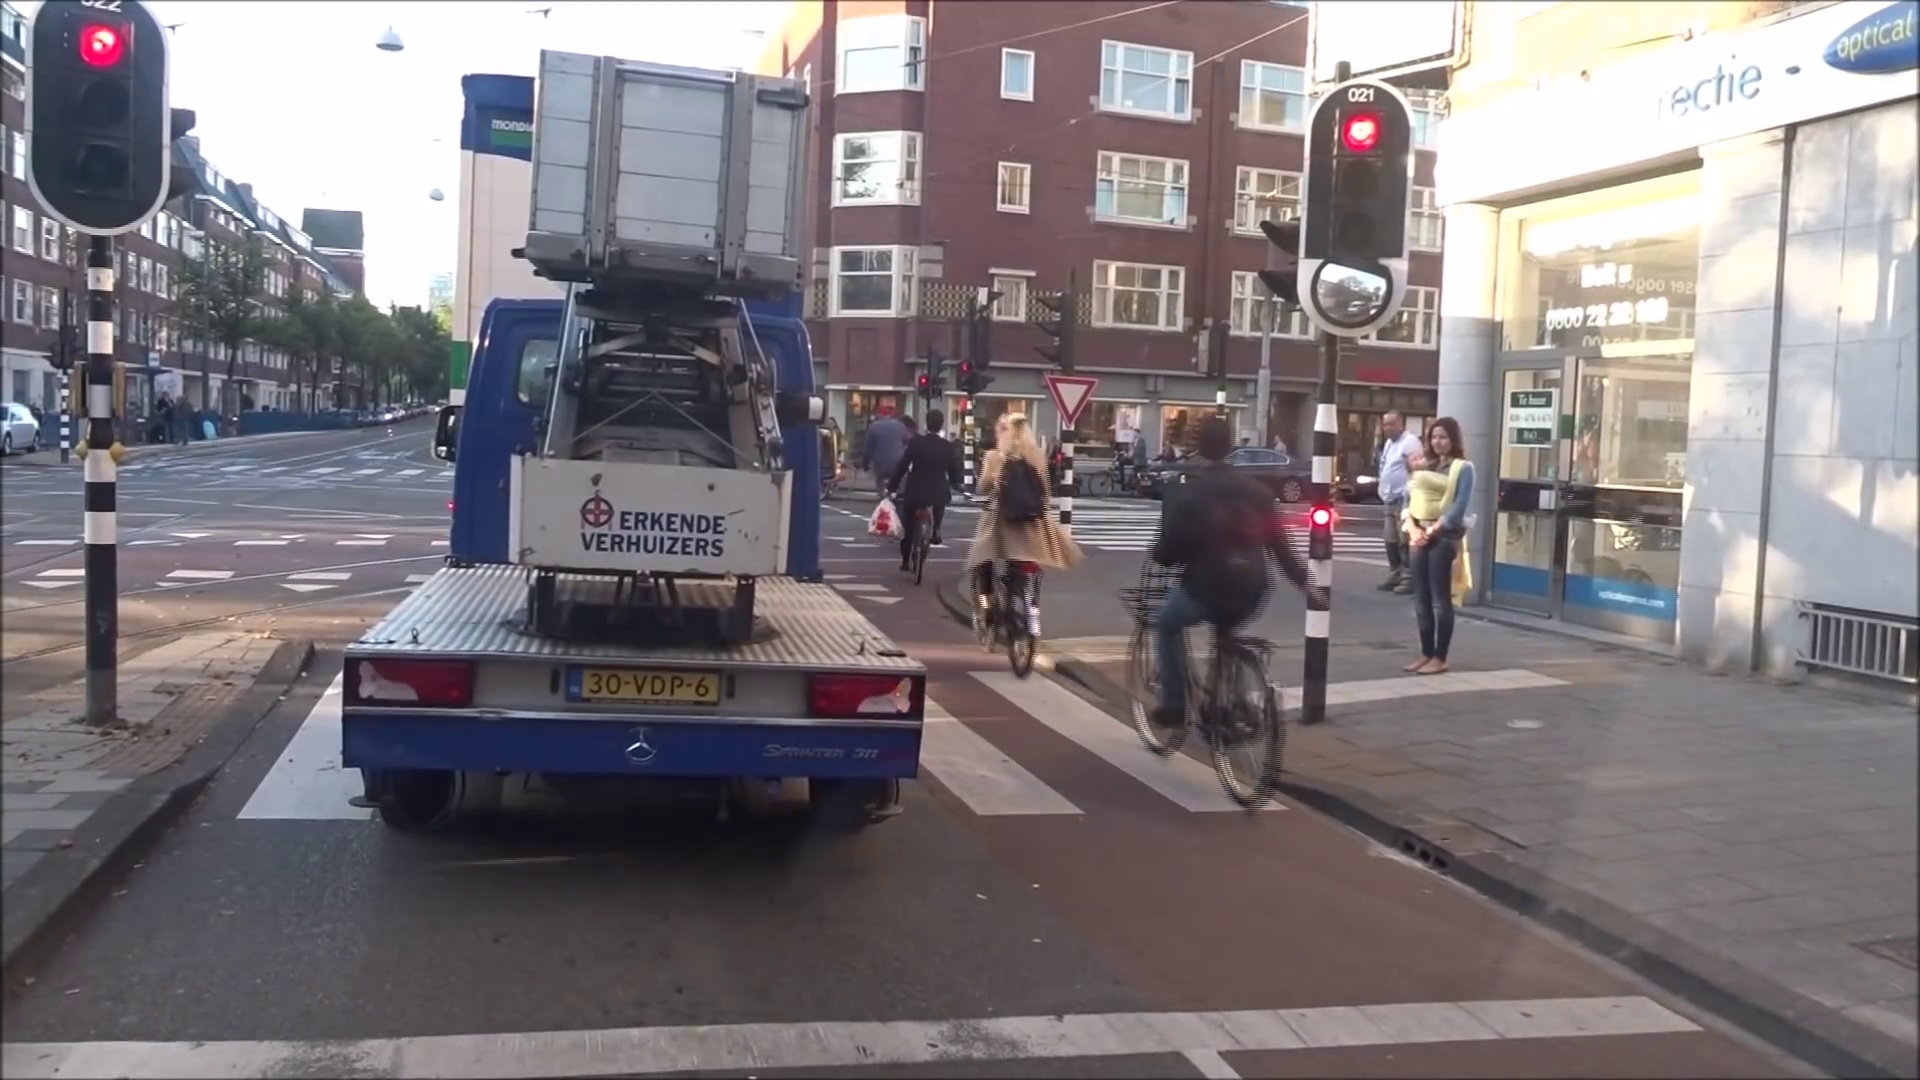cyclist_back: (1124, 412, 1319, 825), (968, 401, 1061, 682), (893, 407, 950, 592)
